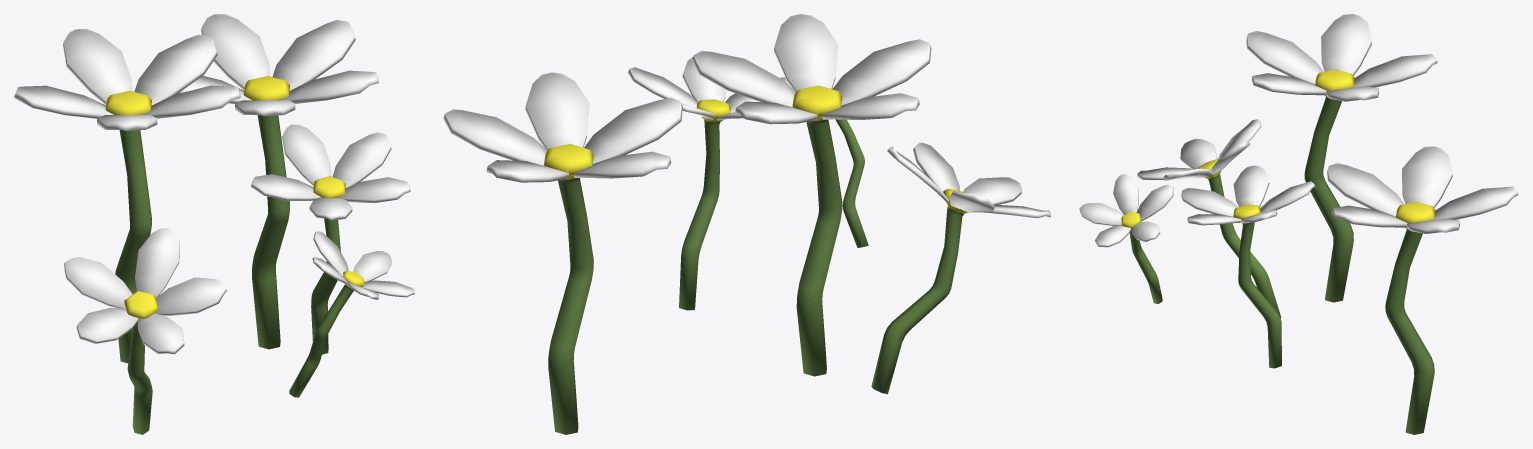
Rendered from Flower_1.fbx.
3 renders of one model, left to right at view 1: azimuth 30°, elevation 25°; view 2: azimuth 150°, elevation 25°; view 3: azimuth 270°, elevation 25°, orthographic. The views are drawn at different scales.
Parts seen in each view (by area): view 1: Flower_1; view 2: Flower_1; view 3: Flower_1.
Part boxes in pixels (box(x1,y1,x2,y2)): Flower_1: box(14, 14, 414, 434); Flower_1: box(443, 14, 1050, 434); Flower_1: box(1079, 14, 1518, 434).
Bounding box in the file's own units: 0.3173 × 0.2541 × 0.3384.
